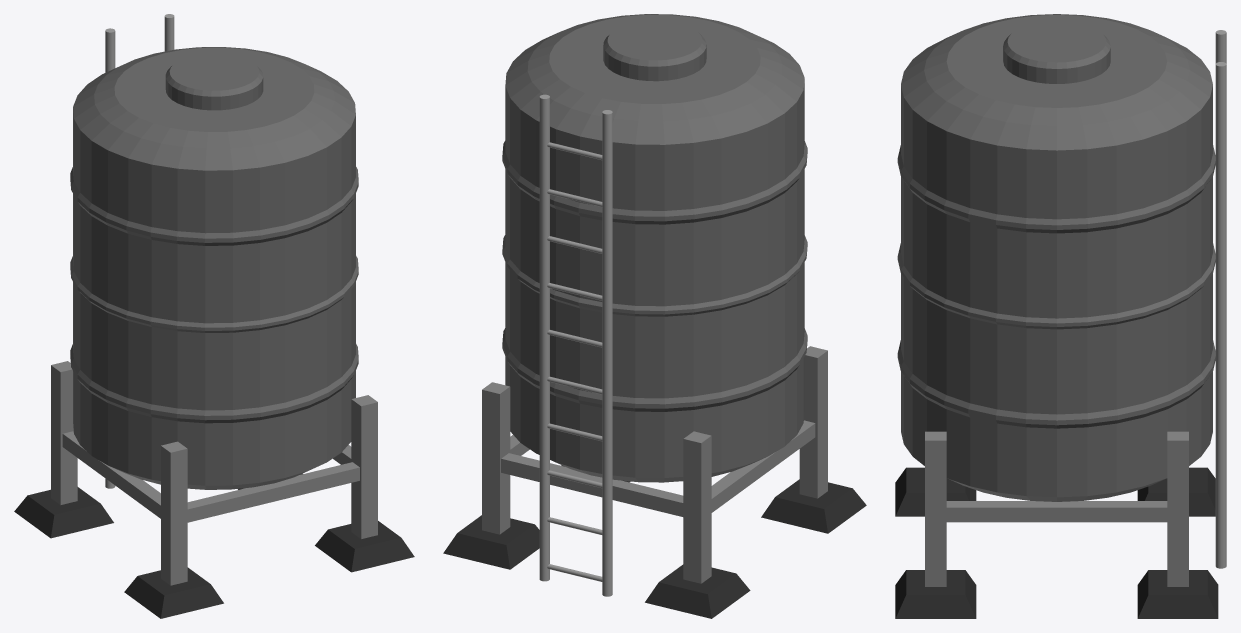
File: verticalTank.obj
3 views of the same model, side by side, from view 1: azimuth 30°, elevation 25°; view 2: azimuth 150°, elevation 25°; view 3: azimuth 270°, elevation 25° (orthographic). The views are drawn at different scales.
Visible parts, largest first — view 1: sityuu; view 2: sityuu; view 3: sityuu.
Boxes of the visible parts, x1,y1,x2,y2 form: sityuu: (14,14,414,618); sityuu: (443,14,866,618); sityuu: (895,14,1226,618).
Size of the model in its own units: 6 by 10.43 by 6.15.
Materials: 1 (1 with a texture image).
